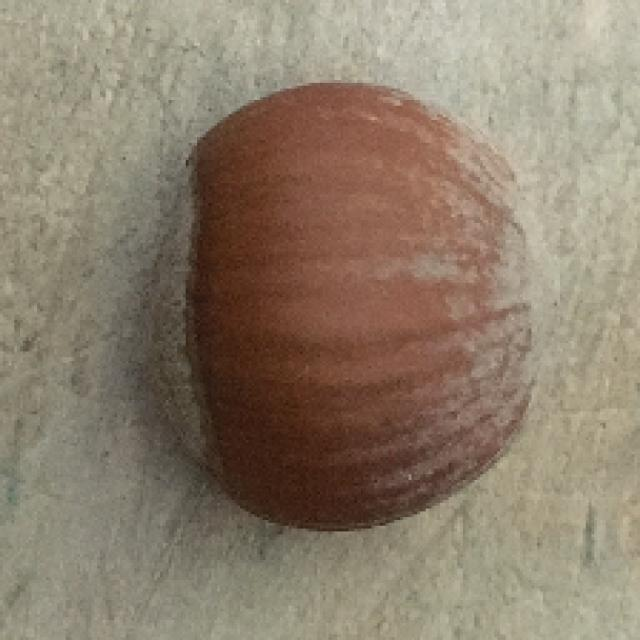qualityHazelnut: (143, 86, 554, 529)
